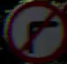Don't turn right: (11, 6, 57, 56)
